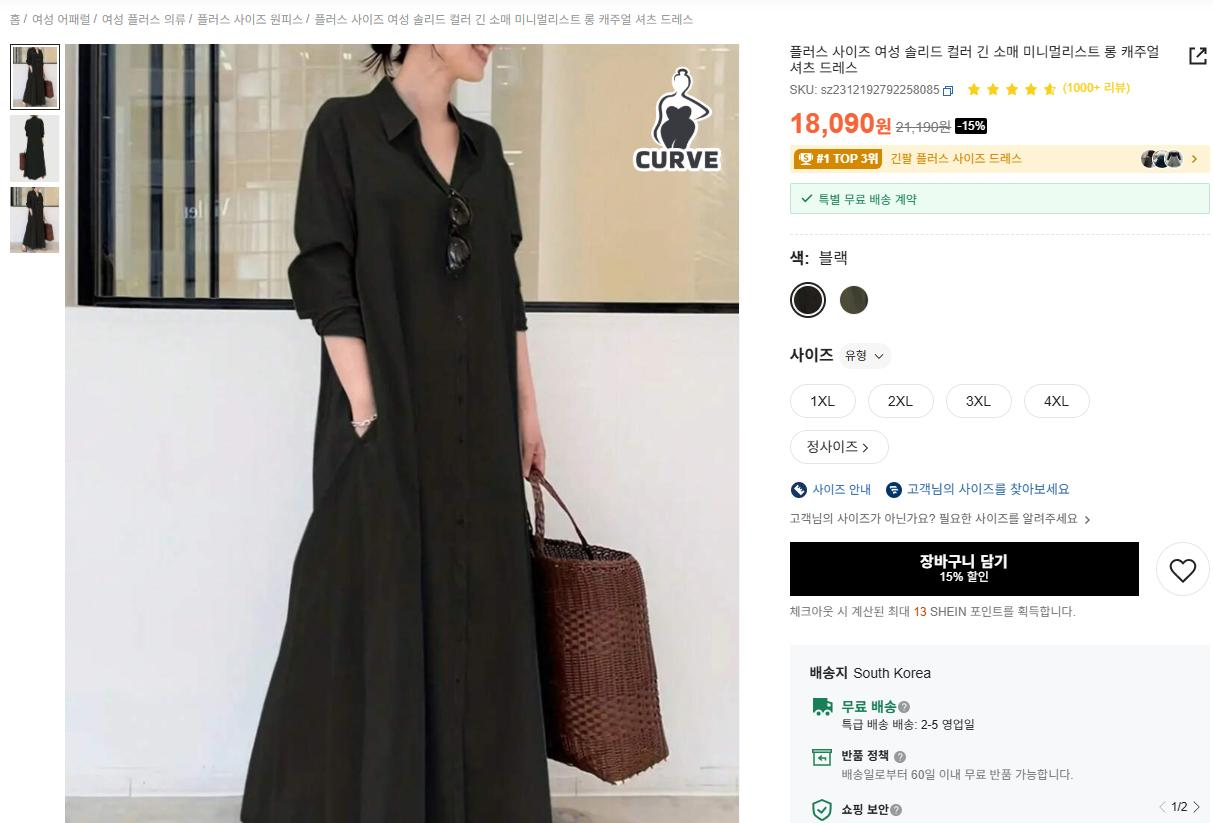button: (790, 541, 1140, 597), (9, 188, 58, 254), (11, 42, 59, 107), (790, 432, 892, 461), (11, 116, 54, 181), (947, 386, 1014, 421), (1029, 382, 1093, 417), (866, 386, 937, 417), (791, 384, 854, 418), (1139, 141, 1201, 170), (1168, 548, 1206, 589), (790, 286, 829, 321), (1153, 796, 1206, 817), (836, 284, 867, 313), (1184, 42, 1213, 71)
